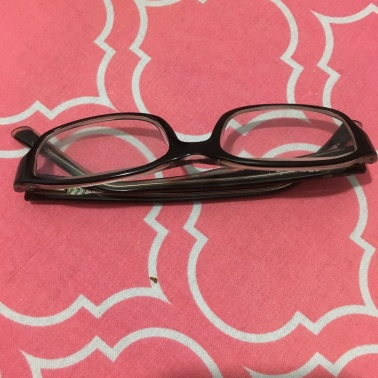glasses: (17, 105, 366, 199)
